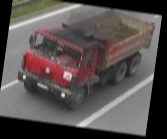truck: (12, 0, 157, 120)
